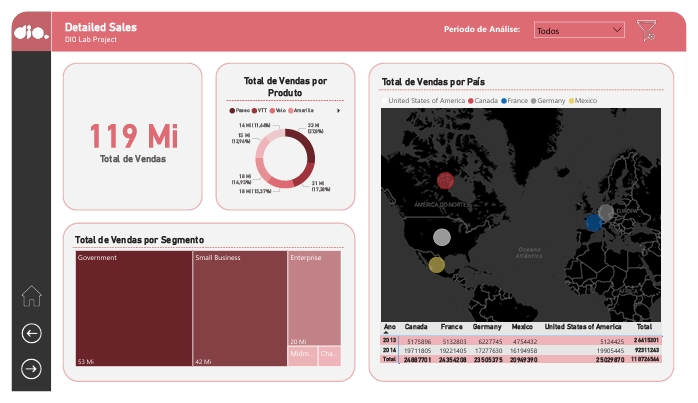

This screenshot's page, from the dashboard's own definition file:
{"tool":"powerbi","page":{"name":"Detailed Sales","canvas":[1280,720],"ordinal":2},"visuals":[{"type":"shape","box":[0,0,75,75.3],"z":0,"group":"g2"},{"type":"group","id":"g1","title":"Barra de Navegação","box":[0,0,75,720],"z":0},{"type":"shape","title":"Faixa Lateral","box":[0,0,75,720],"z":0,"group":"g1"},{"type":"slicer","fields":{"Values":["financials.Data.Variation.Hierarquia de datas.Ano"]},"box":[981.4,8.6,191.4,52.9],"z":0,"group":"g3"},{"type":"shape","title":"BG Elementos Gráficos","box":[96.7,96.7,265,280],"z":0,"group":"g7"},{"type":"shape","title":"BG Elementos Gráficos","box":[386.7,96.7,265,280],"z":0,"group":"g6"},{"type":"shape","title":"BG Elementos Gráficos","box":[676.7,96.7,580,605],"z":0,"group":"g4"},{"type":"shape","title":"BG Elementos Gráficos","box":[96.7,400,555,301.7],"z":0,"group":"g5"},{"type":"group","id":"g2","title":"Cabeçalho","box":[0,0,1280,75.7],"z":1000},{"type":"textbox","box":[793,3.7,199,53],"z":1000,"group":"g3"},{"type":"image","title":"Logo DIO","box":[5.3,6.5,64.7,65.3],"z":1000,"group":"g2"},{"type":"donutChart","title":"Total de Vendas por Produto","fields":{"Category":["financials.Produto"],"Y":["Sum(financials.Vendas)"]},"box":[407.8,121.1,222.2,238.9],"z":1000,"group":"g6"},{"type":"map","title":"Total de Vendas por País","fields":{"Size":["Sum(financials.Vendas)"],"Series":["financials.País"],"Category":["financials.País"]},"box":[697.2,121.5,540,500],"z":1000,"group":"g4"},{"type":"card","fields":{"Values":["Sum(financials.Vendas)"]},"box":[115,121.7,230,230],"z":1000,"group":"g7"},{"type":"treemap","title":"Total de Vendas por Segmento","fields":{"Values":["Sum(financials.Vendas)"],"Group":["financials.Segmento"]},"box":[116,421,514,257],"z":1000,"group":"g5"},{"type":"image","title":"Botão Retroceder Página","box":[15.4,587.7,44.6,44.6],"z":1000,"group":"g1"},{"type":"shape","box":[75.7,0,1204.3,75.7],"z":2000,"group":"g2"},{"type":"group","id":"g3","title":"Filtro de Análise","box":[793,3.7,437,57.8],"z":2000},{"type":"image","title":"Botão Limpar Filtros","box":[1178.6,15.7,51.4,38.6],"z":2000,"group":"g3"},{"type":"pivotTable","title":"Matriz de Vendas por País","fields":{"Columns":["financials.País"],"Values":["Sum(financials.Vendas)"],"Rows":["financials.Data.Variation.Hierarquia de datas.Ano"]},"box":[695,584,547,105],"z":2000,"group":"g4"},{"type":"image","title":"Botão Avançar Página","box":[15,655,45,45],"z":2000,"group":"g1"},{"type":"textbox","title":"Título","box":[96,1,594,68],"z":3000,"group":"g2"},{"type":"group","id":"g4","title":"Vendas por País","box":[676.7,96.7,580,605],"z":3000},{"type":"image","title":"Botão Home Page","box":[15.4,516.9,44.6,43.8],"z":3000,"group":"g1"},{"type":"group","id":"g5","title":"Vendas por Segmento","box":[96.7,400,555,301.7],"z":4000},{"type":"group","id":"g6","title":"Vendas por Produto","box":[386.7,96.7,265,280],"z":5000},{"type":"group","id":"g7","title":"Vendas Totais","box":[96.7,96.7,265,280],"z":6000}]}

Visuals, with their boxes in screenshot pixels (x1, y1, x2, y2), scaled from the page's 1280x720 canvas onto the 698x403 screenshot:
shape: bbox=[0, 0, 41, 42]
"Barra de Navegação" group: bbox=[0, 0, 41, 402]
"Faixa Lateral" shape: bbox=[0, 0, 41, 402]
slicer - financials.Data.Variation.Hierarquia de datas.Ano: bbox=[535, 5, 640, 34]
"BG Elementos Gráficos" shape: bbox=[53, 54, 197, 211]
"BG Elementos Gráficos" shape: bbox=[211, 54, 355, 211]
"BG Elementos Gráficos" shape: bbox=[369, 54, 685, 393]
"BG Elementos Gráficos" shape: bbox=[53, 224, 355, 393]
"Cabeçalho" group: bbox=[0, 0, 697, 42]
textbox: bbox=[432, 2, 541, 32]
"Logo DIO" image: bbox=[3, 4, 38, 40]
"Total de Vendas por Produto" donutChart: bbox=[222, 68, 344, 202]
"Total de Vendas por País" map: bbox=[380, 68, 675, 348]
card - Sum(financials.Vendas): bbox=[63, 68, 188, 197]
"Total de Vendas por Segmento" treemap: bbox=[63, 236, 344, 379]
"Botão Retroceder Página" image: bbox=[8, 329, 33, 354]
shape: bbox=[41, 0, 697, 42]
"Filtro de Análise" group: bbox=[432, 2, 671, 34]
"Botão Limpar Filtros" image: bbox=[643, 9, 671, 30]
"Matriz de Vendas por País" pivotTable: bbox=[379, 327, 677, 386]
"Botão Avançar Página" image: bbox=[8, 367, 33, 392]
"Título" textbox: bbox=[52, 1, 376, 39]
"Vendas por País" group: bbox=[369, 54, 685, 393]
"Botão Home Page" image: bbox=[8, 289, 33, 314]
"Vendas por Segmento" group: bbox=[53, 224, 355, 393]
"Vendas por Produto" group: bbox=[211, 54, 355, 211]
"Vendas Totais" group: bbox=[53, 54, 197, 211]
